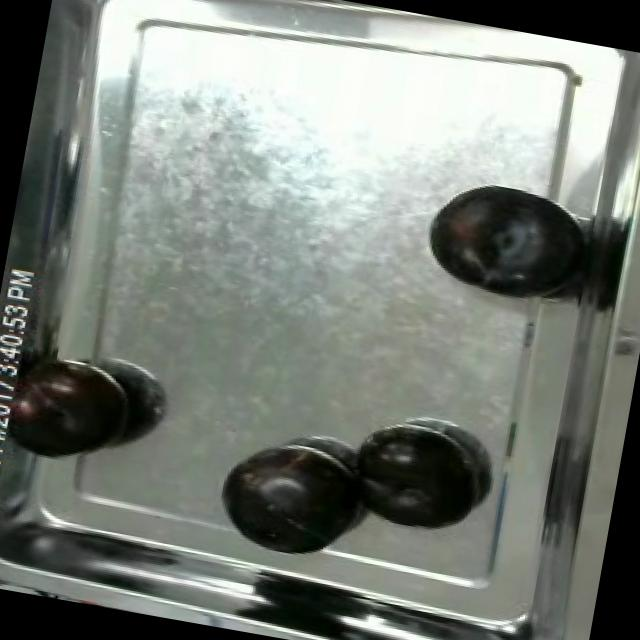Fruit: (412, 168, 596, 314), (204, 427, 374, 568), (336, 413, 486, 539)
